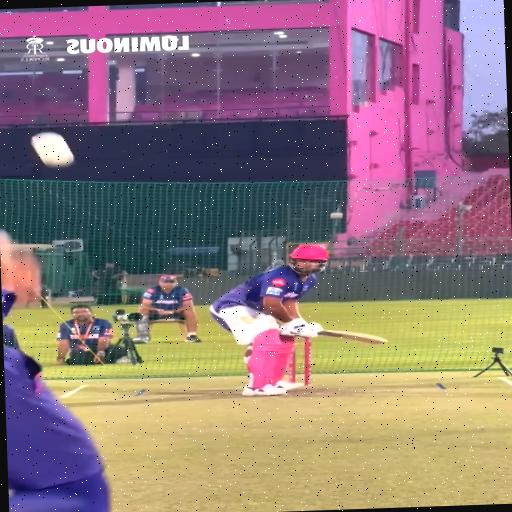Cricket bat: (318, 329, 386, 344)
